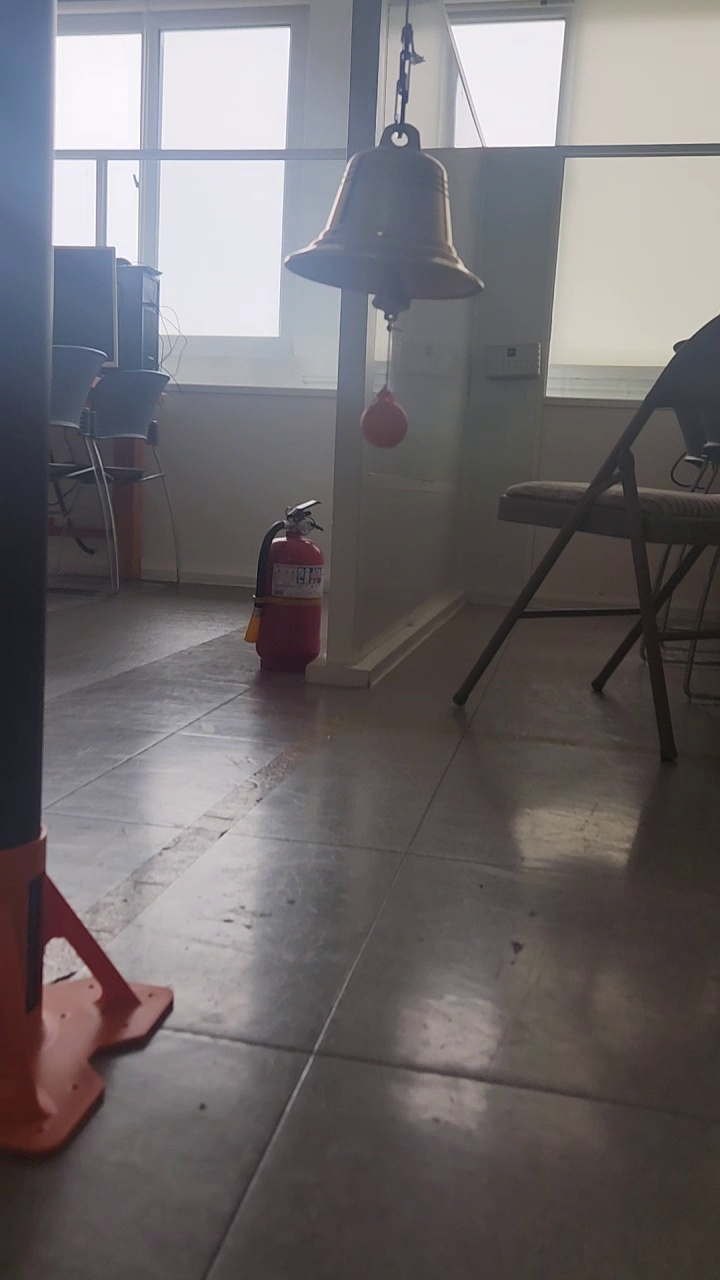bell: (281, 130, 489, 311)
pole: (0, 2, 57, 838)
